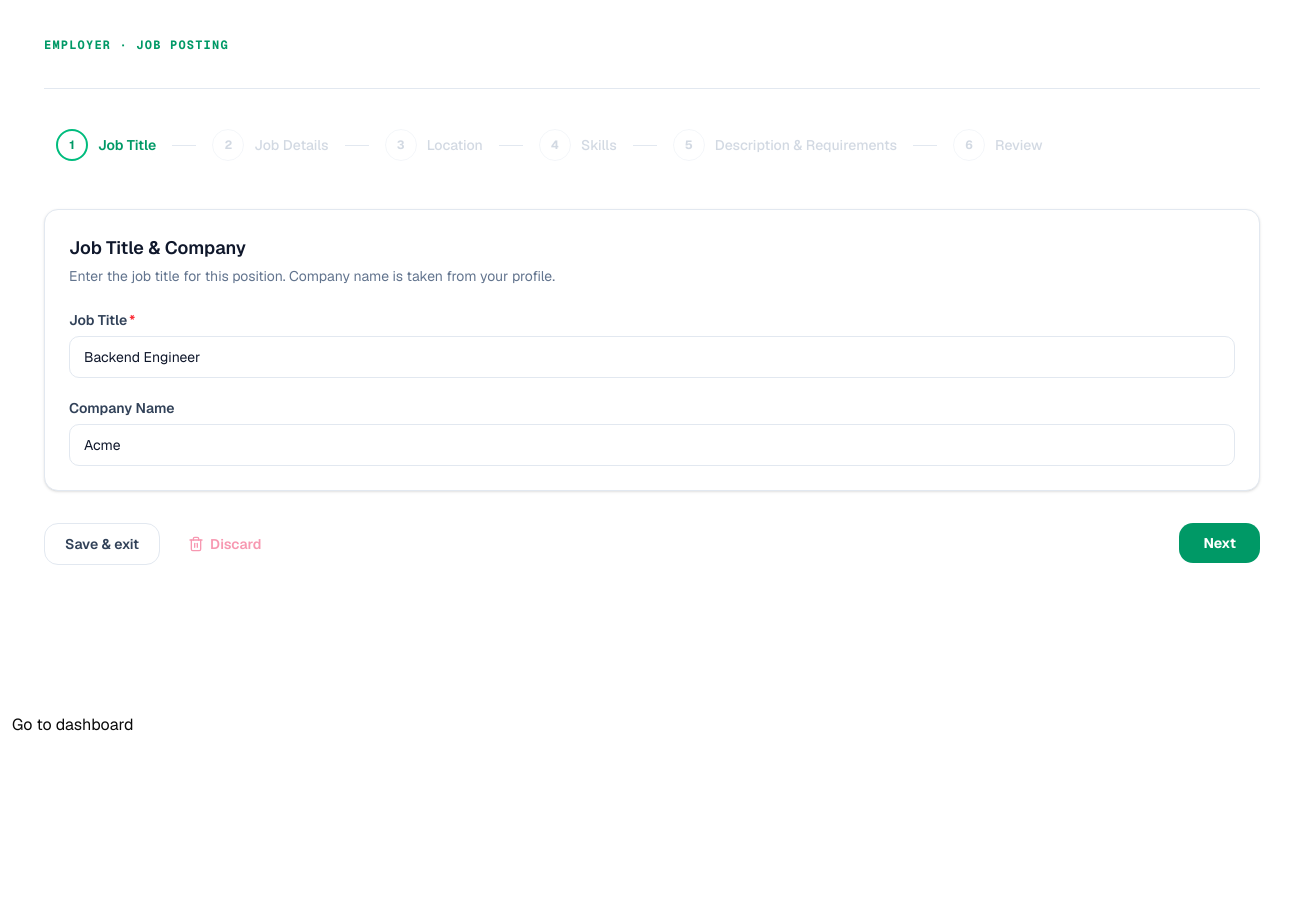
Scenario: CreateJobView draft on every step › saves a draft quietly when a step is completed and moves on at once
This screenshot has width=1292, height=900.
Step 1. Click the button "Next" → click(1220, 543), box [1179,523,1260,563]
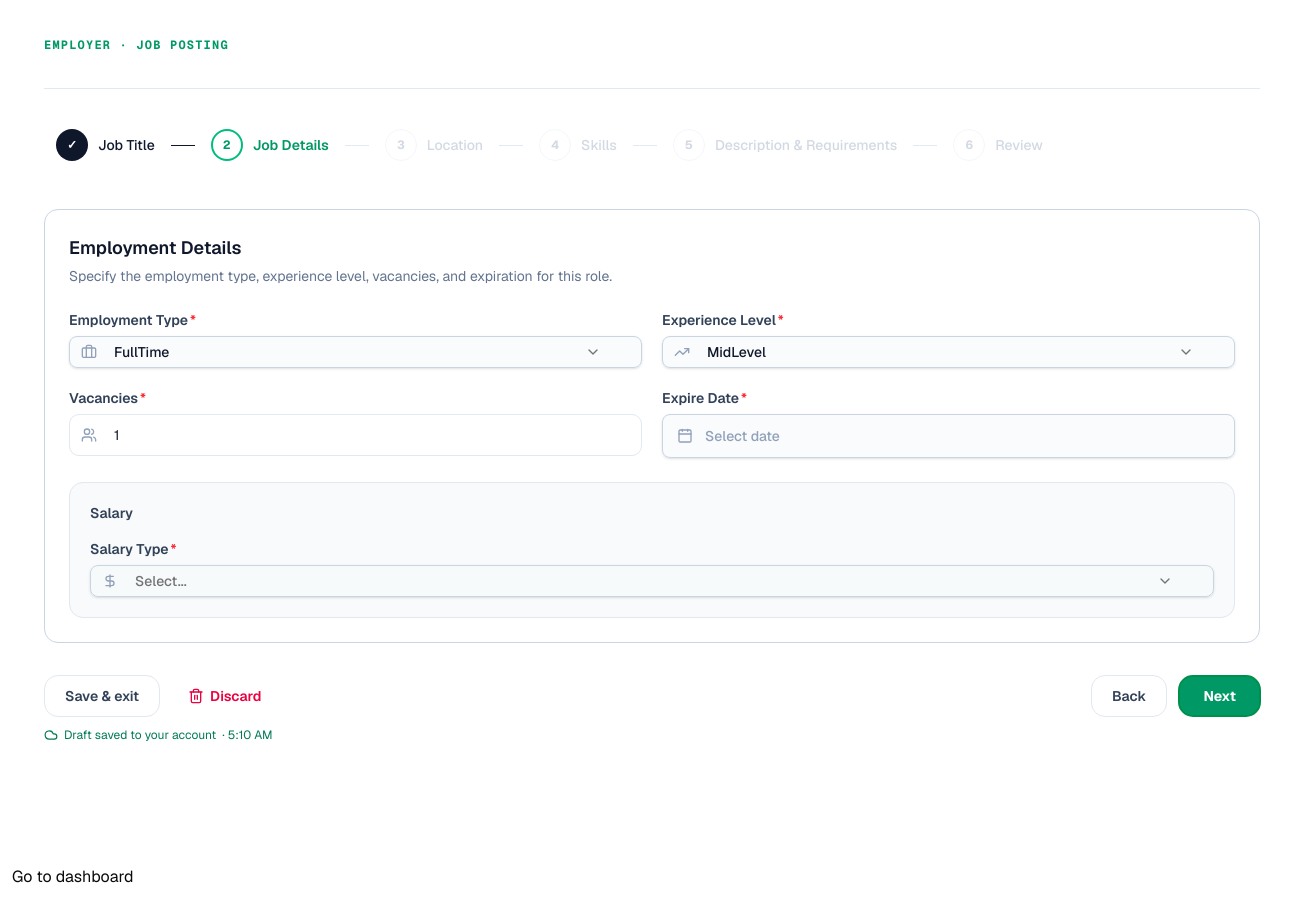
Now the text "Draft saved to your account" is shown, box [64,727,216,743]
